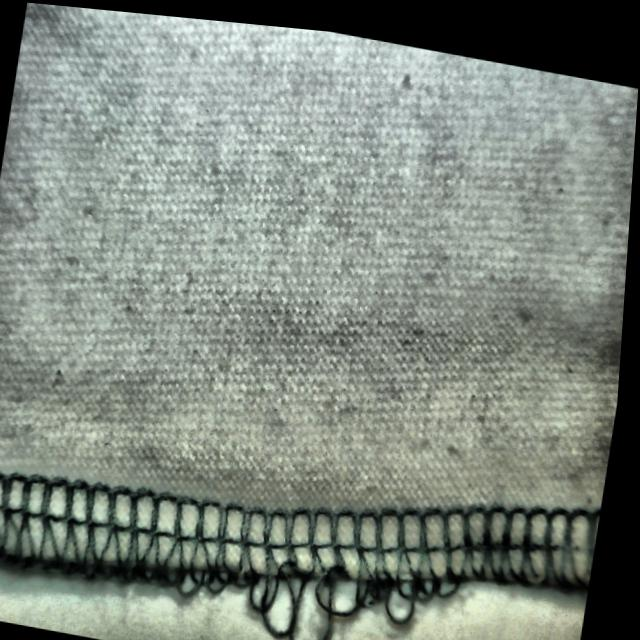Stitch: (162, 456, 480, 640)
